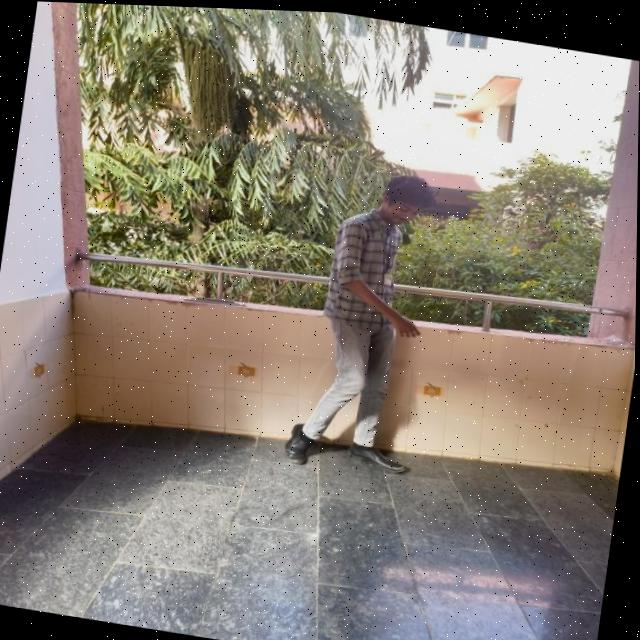id_card: (368, 212, 406, 288)
